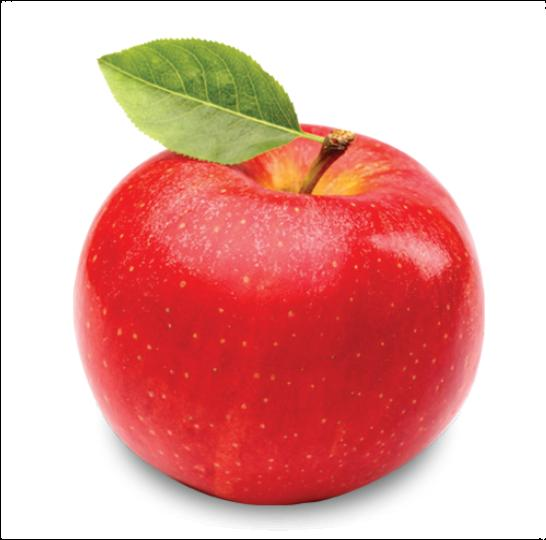Apple: (61, 76, 500, 513)
